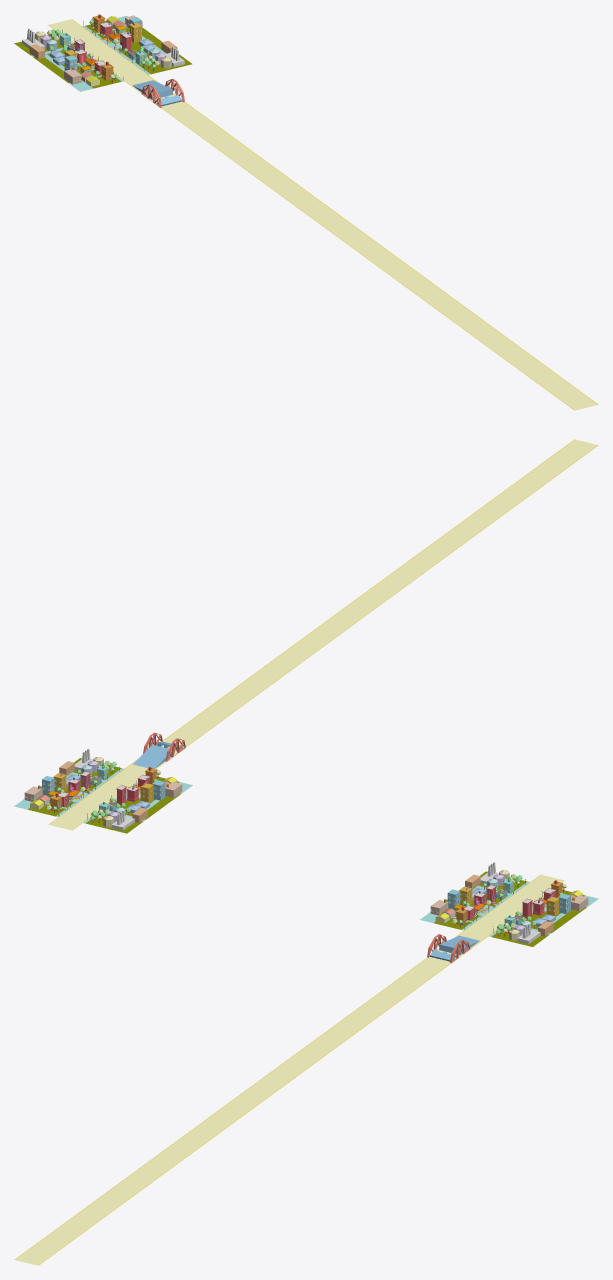
The model's file is city_pre_5.glb.
3 renders of one model, top to bottom at view 1: azimuth 30°, elevation 25°; view 2: azimuth 150°, elevation 25°; view 3: azimuth 330°, elevation 25°, orthographic.
Parts seen in each view (by area): view 1: ground road, ground road.001, ground road.002, ground road.003, ground road.004, ground, ground.001; view 2: ground road.001, ground road, ground road.002, ground road.003, ground road.004, ground.001, ground, bridge.016; view 3: ground road, ground road.001, ground road.002, ground road.003, ground road.004, ground, ground.001.
Boxes of the visible parts, x1=… form: ground road: x1=469, y1=327, x2=598, y2=410; ground road.001: x1=363, y1=250, x2=492, y2=333; ground road.002: x1=258, y1=173, x2=386, y2=255; ground road.003: x1=152, y1=101, x2=281, y2=178; ground road.004: x1=48, y1=19, x2=175, y2=101; ground: x1=82, y1=15, x2=192, y2=74; ground.001: x1=14, y1=35, x2=123, y2=91; ground road.001: x1=363, y1=516, x2=492, y2=599; ground road: x1=469, y1=439, x2=598, y2=522; ground road.002: x1=258, y1=594, x2=387, y2=676; ground road.003: x1=161, y1=670, x2=281, y2=753; ground road.004: x1=48, y1=753, x2=176, y2=830; ground.001: x1=83, y1=776, x2=192, y2=833; ground: x1=14, y1=758, x2=123, y2=816; bridge.016: x1=133, y1=745, x2=171, y2=768; ground road: x1=14, y1=1182, x2=143, y2=1265; ground road.001: x1=120, y1=1105, x2=249, y2=1188; ground road.002: x1=225, y1=1028, x2=354, y2=1111; ground road.003: x1=331, y1=957, x2=459, y2=1034; ground road.004: x1=437, y1=874, x2=564, y2=956; ground: x1=489, y1=890, x2=598, y2=946; ground.001: x1=420, y1=871, x2=529, y2=930.
Bounding box in the file's own units: 31.94 × 4.96 × 258.
Materials: 41 (22 with a texture image).
